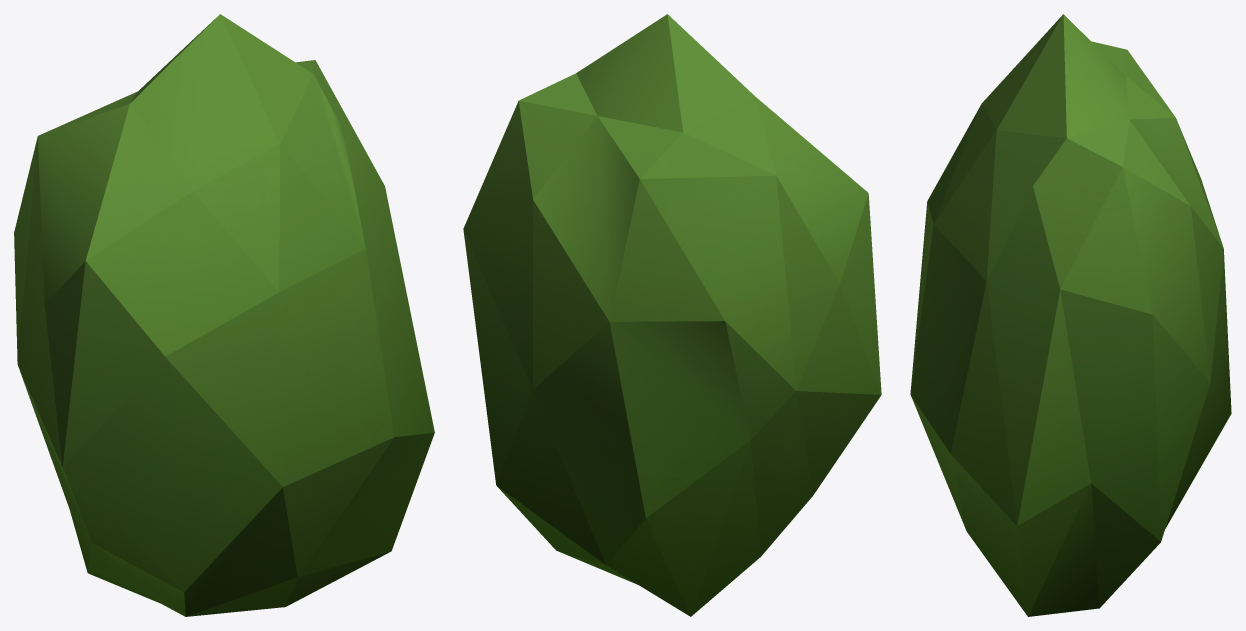
File: Baby_bush.fbx
The picture shows the model from 3 angles, left to right: view 1: azimuth 30°, elevation 25°; view 2: azimuth 150°, elevation 25°; view 3: azimuth 270°, elevation 25°; orthographic projection. The views are drawn at different scales.
Visible parts, largest first — view 1: Baby_Bush; view 2: Baby_Bush; view 3: Baby_Bush.
Boxes of the visible parts, left/top/right/bottom form: Baby_Bush: left=14, top=14, right=434, bottom=616; Baby_Bush: left=463, top=14, right=881, bottom=616; Baby_Bush: left=910, top=14, right=1231, bottom=616.
Bounding box in the file's own units: 4.3 × 6.48 × 3.3.
